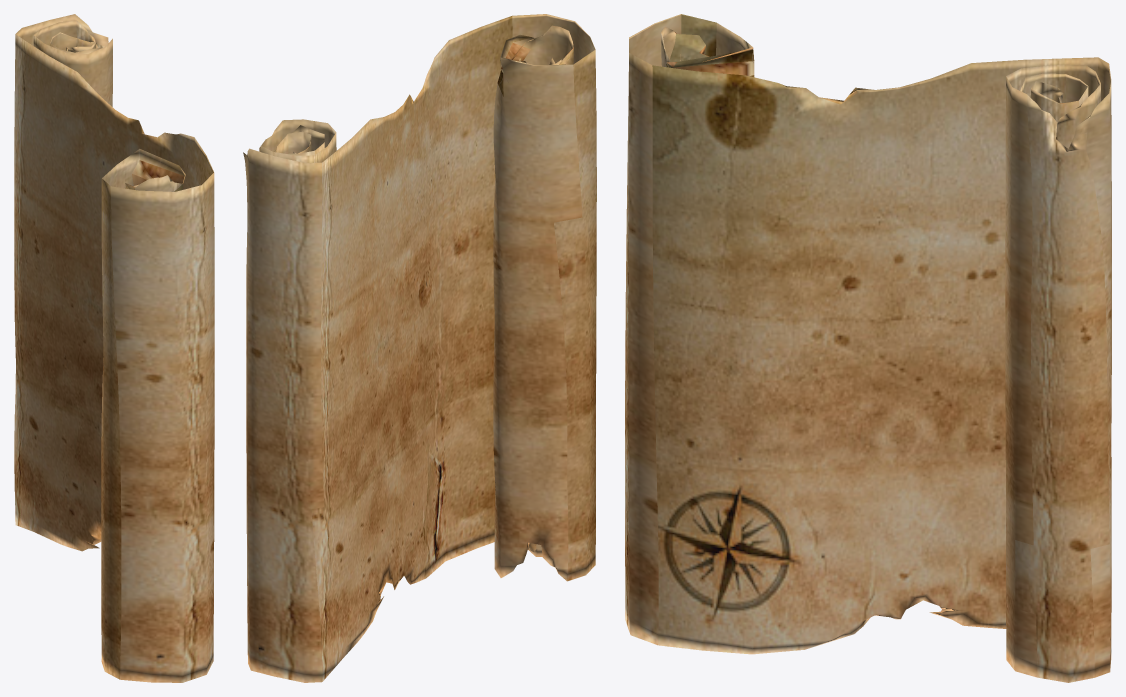
3 renders of one model, left to right at view 1: azimuth 30°, elevation 25°; view 2: azimuth 150°, elevation 25°; view 3: azimuth 270°, elevation 25°, orthographic. The views are drawn at different scales.
Parts seen in each view (by area): view 1: mapalow; view 2: mapalow; view 3: mapalow.
Boxes of the visible parts, x1,y1,x2,y2 form: mapalow: [14, 14, 214, 682]; mapalow: [243, 14, 596, 682]; mapalow: [625, 14, 1111, 682].
Size of the model in its own units: 176 by 505 by 381.
Materials: 1 (1 with a texture image).
